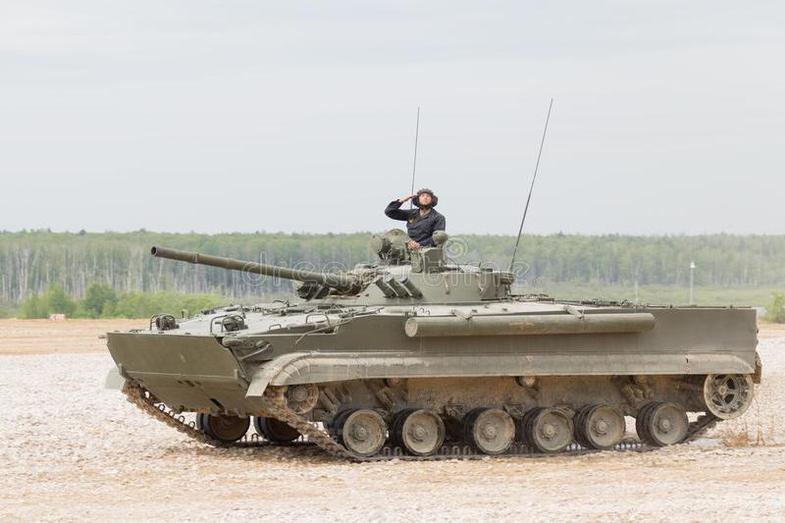bmp: (106, 248, 766, 452)
